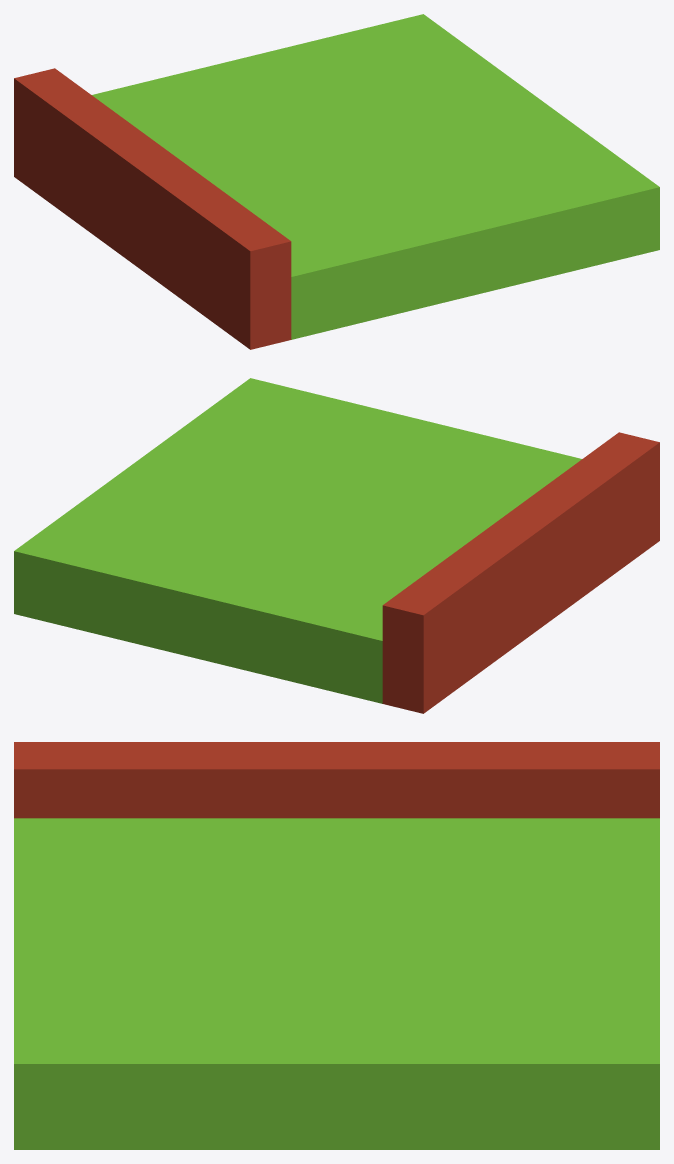
The model's file is Side_Wall.FBX.
The picture shows the model from 3 angles, top to bottom: view 1: azimuth 30°, elevation 25°; view 2: azimuth 150°, elevation 25°; view 3: azimuth 270°, elevation 25°; orthographic projection. The views are drawn at different scales.
Visible parts, largest first — view 1: Side_01, Walls; view 2: Side_01, Walls; view 3: Side_01, Walls.
Boxes of the visible parts, bbox=[...] form: Side_01: bbox=[92, 14, 659, 339]; Walls: bbox=[14, 68, 291, 349]; Side_01: bbox=[14, 378, 581, 703]; Walls: bbox=[382, 432, 659, 713]; Side_01: bbox=[14, 818, 659, 1149]; Walls: bbox=[14, 742, 659, 818].
Size of the model in its own units: 0.9999 by 0.9999 by 0.23.
